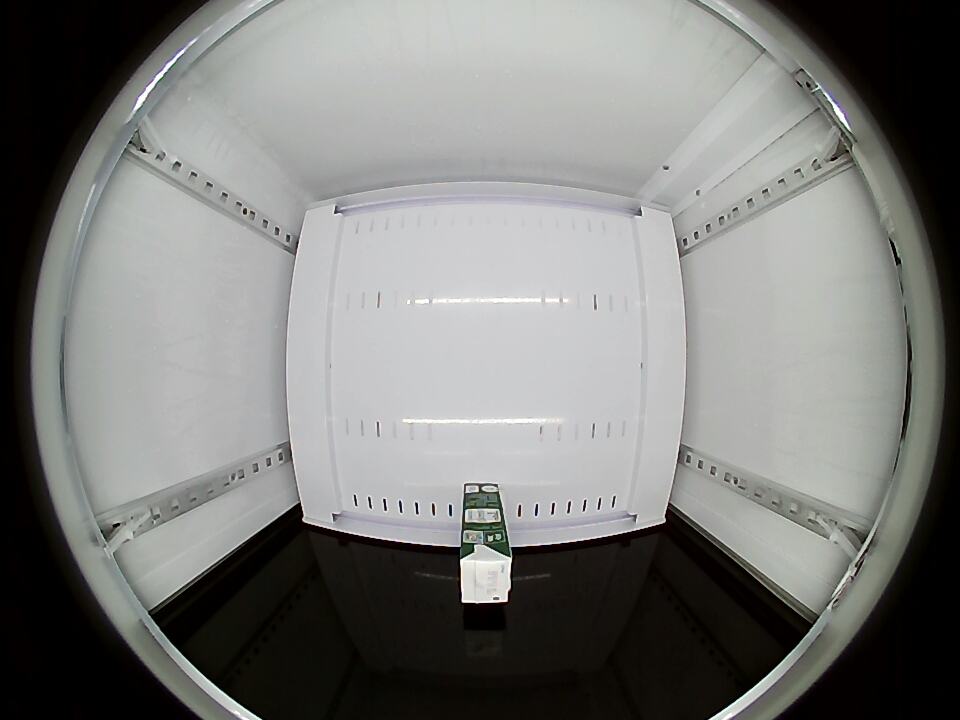jindian: (459, 538, 512, 605)
